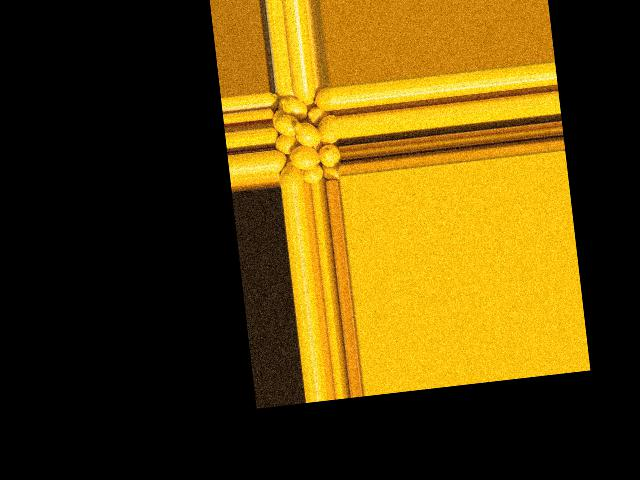lemon: (272, 110, 299, 136)
